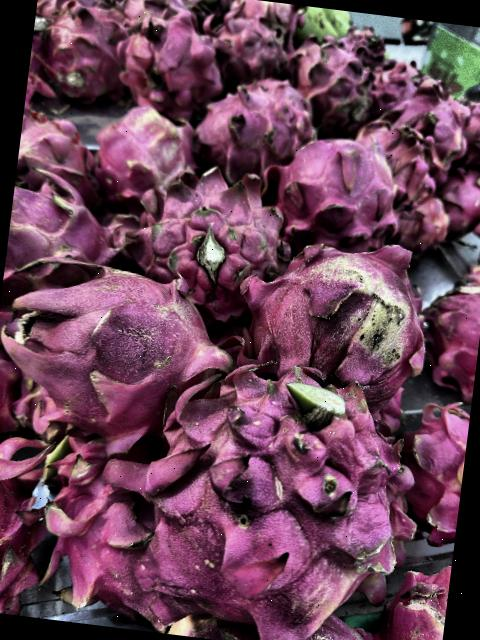buah-naga-belum-matang: (242, 240, 438, 403), (86, 95, 195, 200)
buah-naga-matang: (128, 348, 423, 633), (0, 236, 209, 437), (24, 432, 203, 628), (134, 166, 288, 308), (273, 123, 403, 251), (4, 178, 123, 294), (202, 62, 317, 178), (0, 427, 58, 617), (114, 15, 228, 109), (392, 391, 472, 520), (415, 260, 480, 394), (39, 0, 126, 98), (294, 28, 372, 122), (382, 80, 471, 156), (14, 109, 92, 193), (210, 12, 294, 86), (360, 119, 442, 194), (384, 557, 452, 640), (442, 171, 480, 240)
